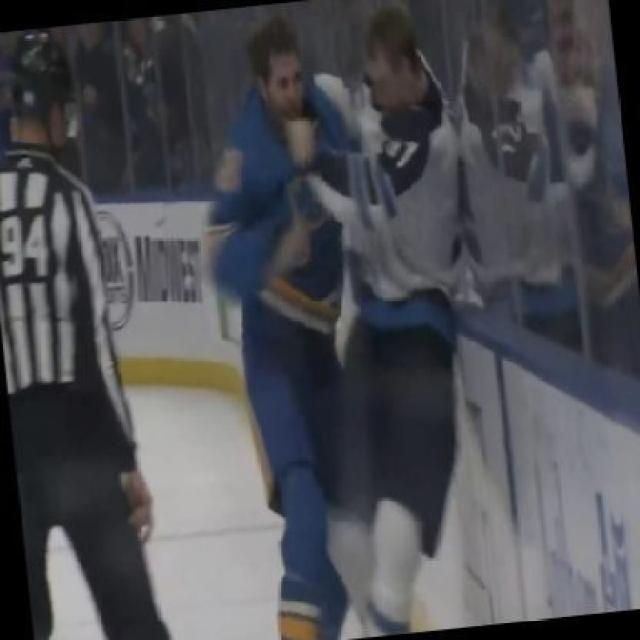fight: (205, 3, 473, 640)
non-fight: (0, 31, 178, 640)
